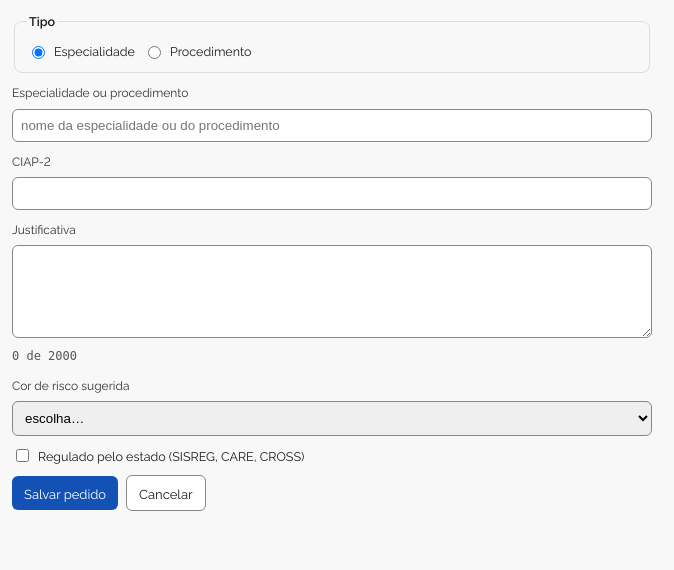
it: RequestForm › CIAP-2 com formato errado não envia
The width and height of the screenshot is (674, 570).
Click the radio button labelled "Procedimento" at (154, 53), box [148, 46, 161, 59]
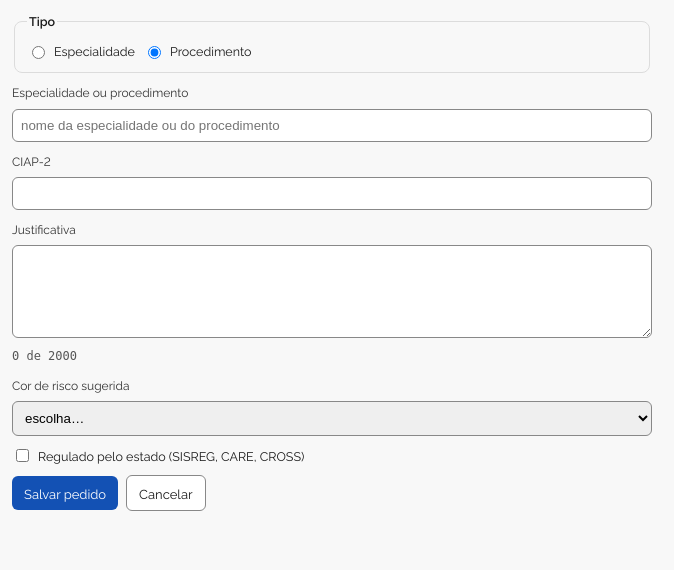
Type "eco" into the field labelled "Especialidade ou procedimento" at (332, 125), box [12, 109, 652, 142]
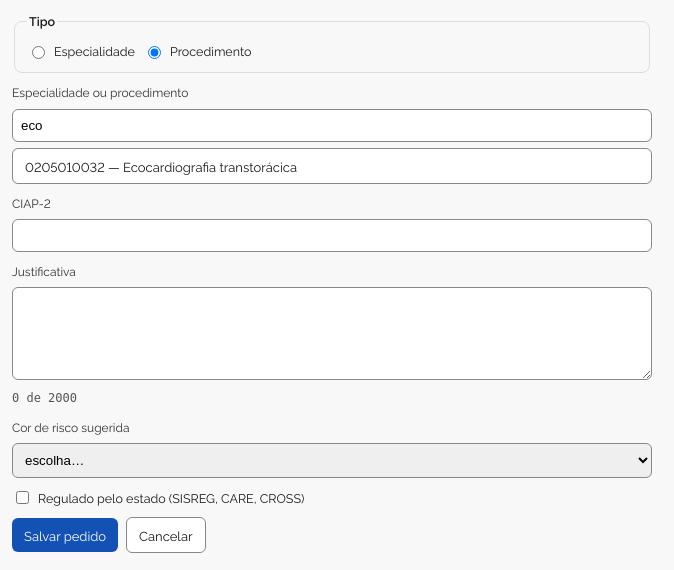
Click the button "0205010032 — Ecocardiografia transtorácica" at (161, 166), box [12, 148, 652, 184]
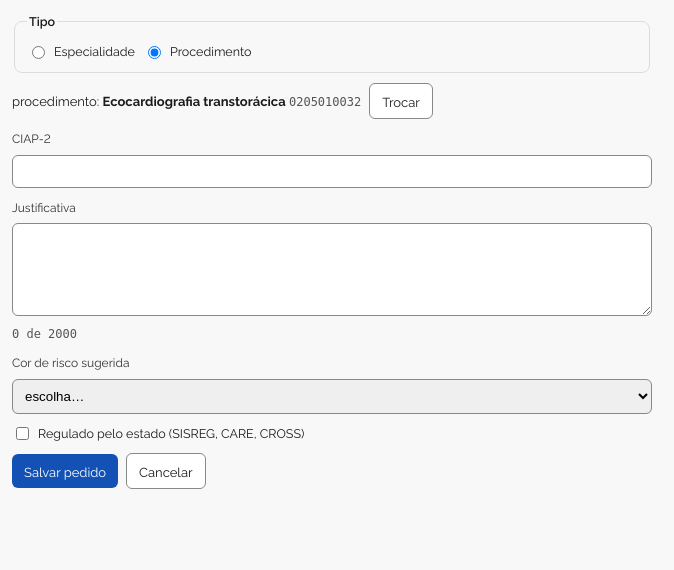
Type "K8" into the field labelled "CIAP-2" at (332, 171), box [12, 155, 652, 188]
Type "Dor torácica aos esforços há 3 meses, teste ergométrico alterado." into the text box labelled "Justificativa" at (332, 270), box [12, 223, 652, 316]
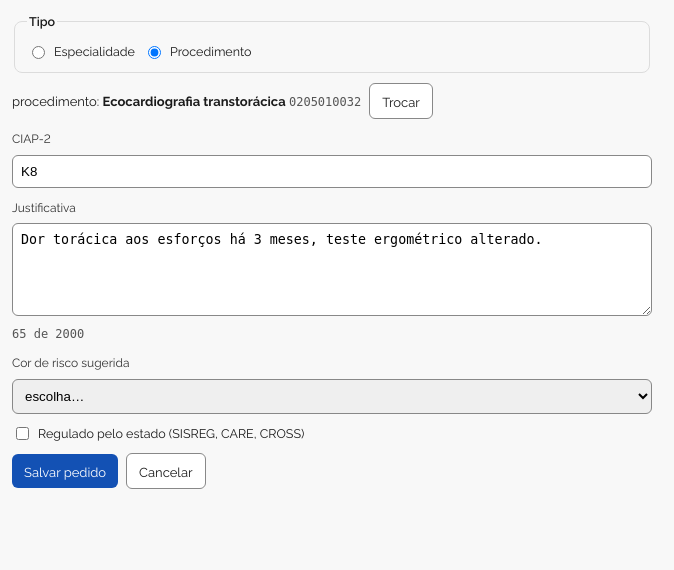
Select "azul" in the dropdown labelled "Cor de risco sugerida" at (332, 396), box [12, 379, 652, 414]
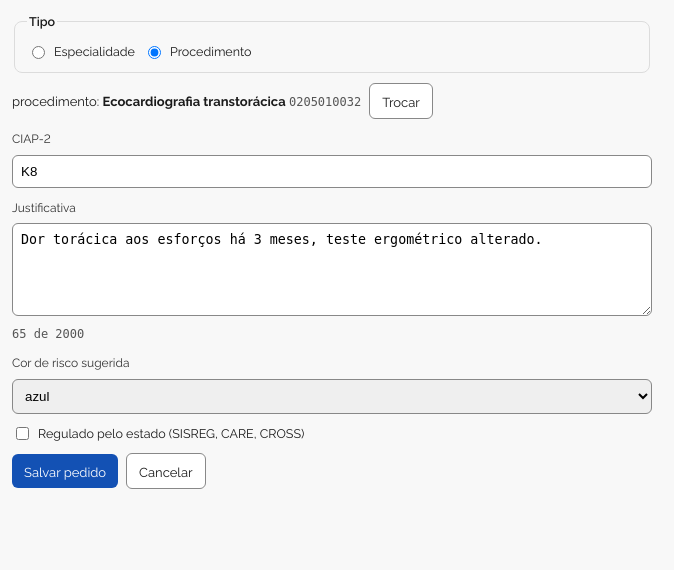
Click the button "Salvar pedido" at (65, 471), box [12, 454, 118, 488]
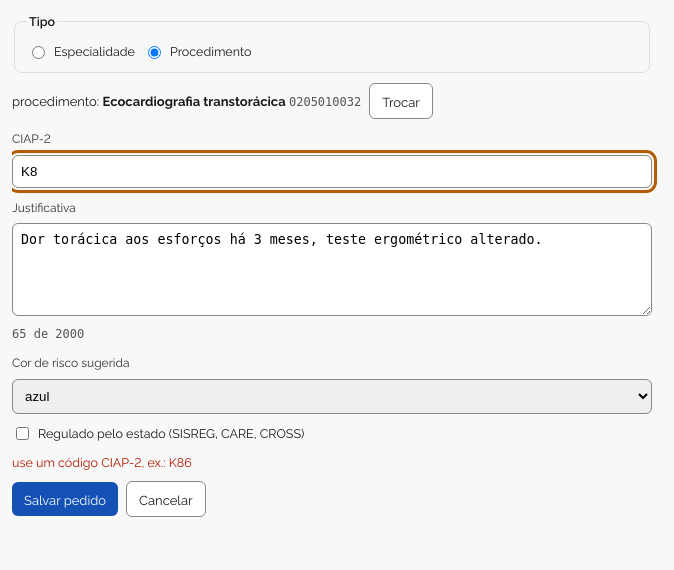
expect the message reads "use um código CIAP-2, ex.: K86": met, box [12, 453, 192, 470]
